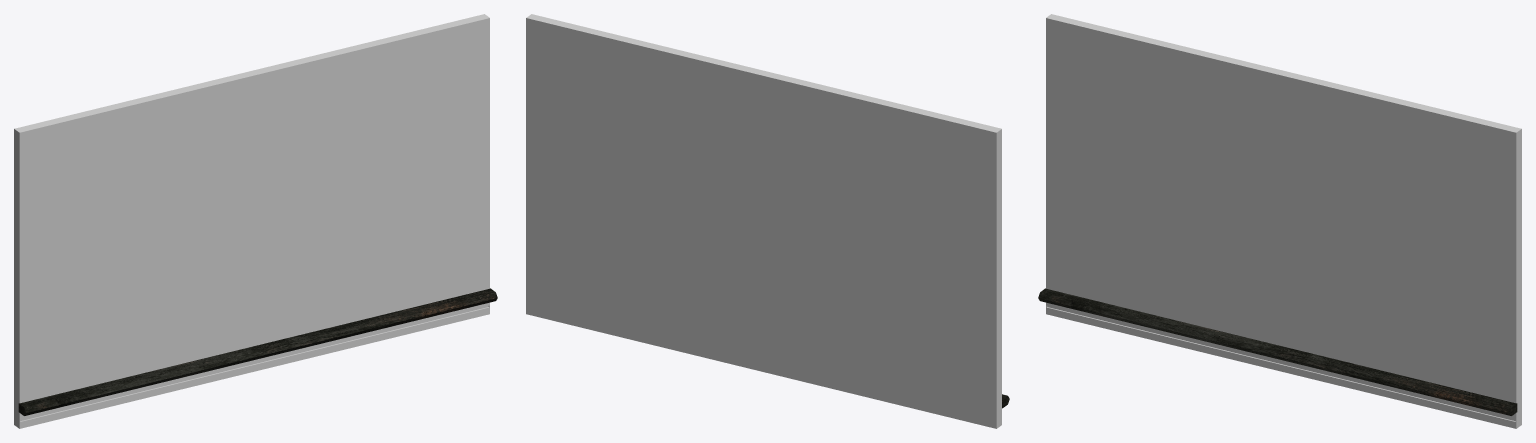
The model's file is 12_C_Wall.fbx.
3 views of the same model, side by side, from view 1: azimuth 30°, elevation 25°; view 2: azimuth 150°, elevation 25°; view 3: azimuth 330°, elevation 25° (orthographic).
Visible parts, largest first — view 1: C_Wall.012*; view 2: C_Wall.012*; view 3: C_Wall.012*.
Boxes of the visible parts, x1=… form: C_Wall.012*: x1=14, y1=14, x2=497, y2=428; C_Wall.012*: x1=526, y1=14, x2=1009, y2=428; C_Wall.012*: x1=1038, y1=14, x2=1521, y2=428.
Size of the model in its own units: 500 by 300 by 23.05.
